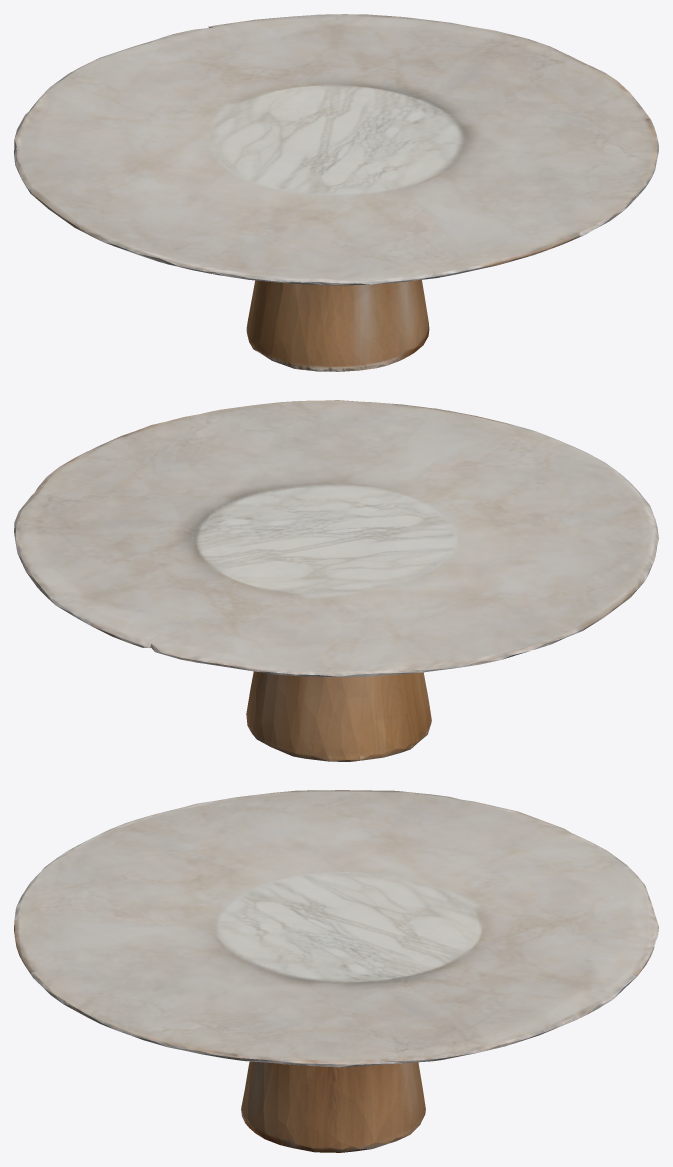
File: marble-dining-table.glb
The picture shows the model from 3 angles, top to bottom: view 1: azimuth 30°, elevation 25°; view 2: azimuth 150°, elevation 25°; view 3: azimuth 270°, elevation 25°; orthographic projection.
Parts seen in each view (by area): view 1: table1; view 2: table1; view 3: table1.
Boxes of the visible parts, <box> form: table1: <box>14,14,658,371</box>; table1: <box>14,400,658,761</box>; table1: <box>14,790,658,1152</box>.
Size of what is drawn, in the model's own units: 4.59 by 1.49 by 4.55.
Materials: 1 (1 with a texture image).
